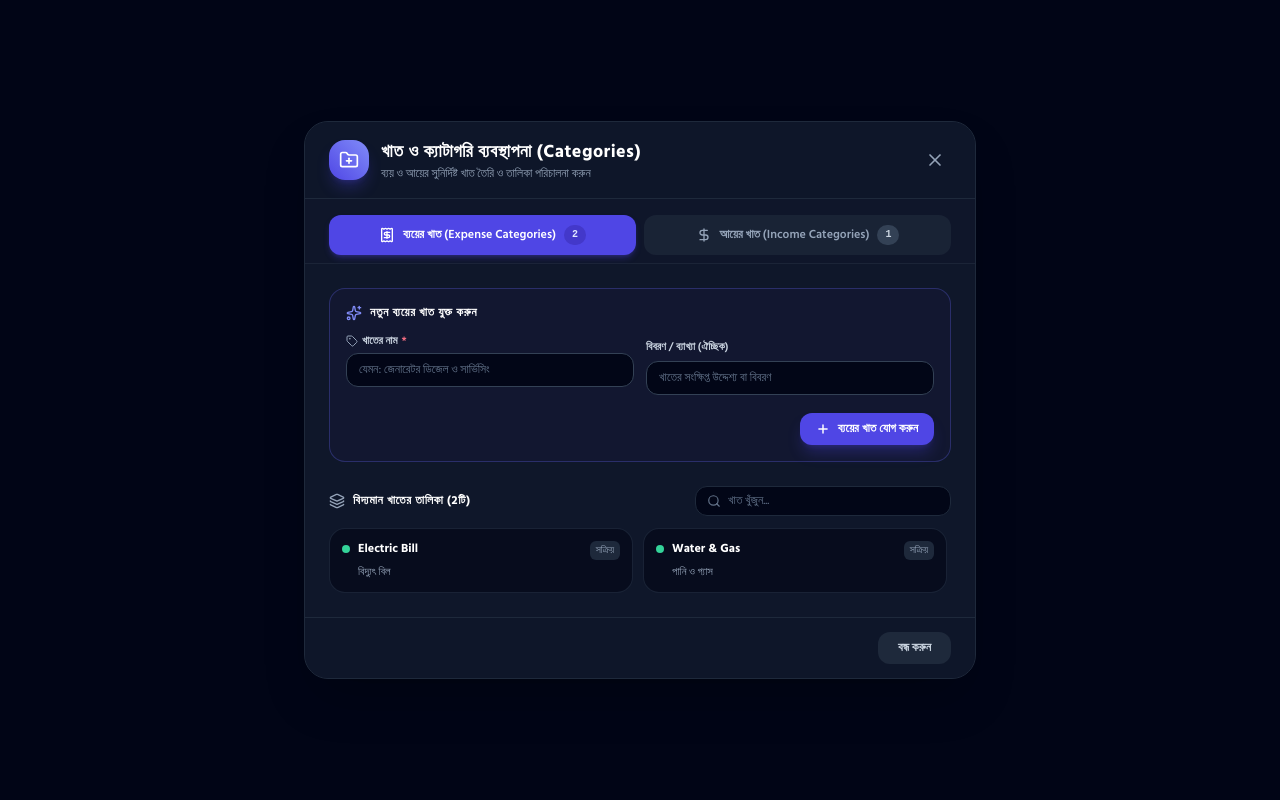
Scenario: ManageCategoriesModal Component › switches between Expense and Income tabs seamlessly
The width and height of the screenshot is (1280, 800).
expect the text "Electric Bill" is shown: met, box [358, 541, 418, 557]
# Click Income Categories tab
Click the text "আয়ের খাত (Income Categories)".
click(794, 235)  # box [720, 227, 869, 243]
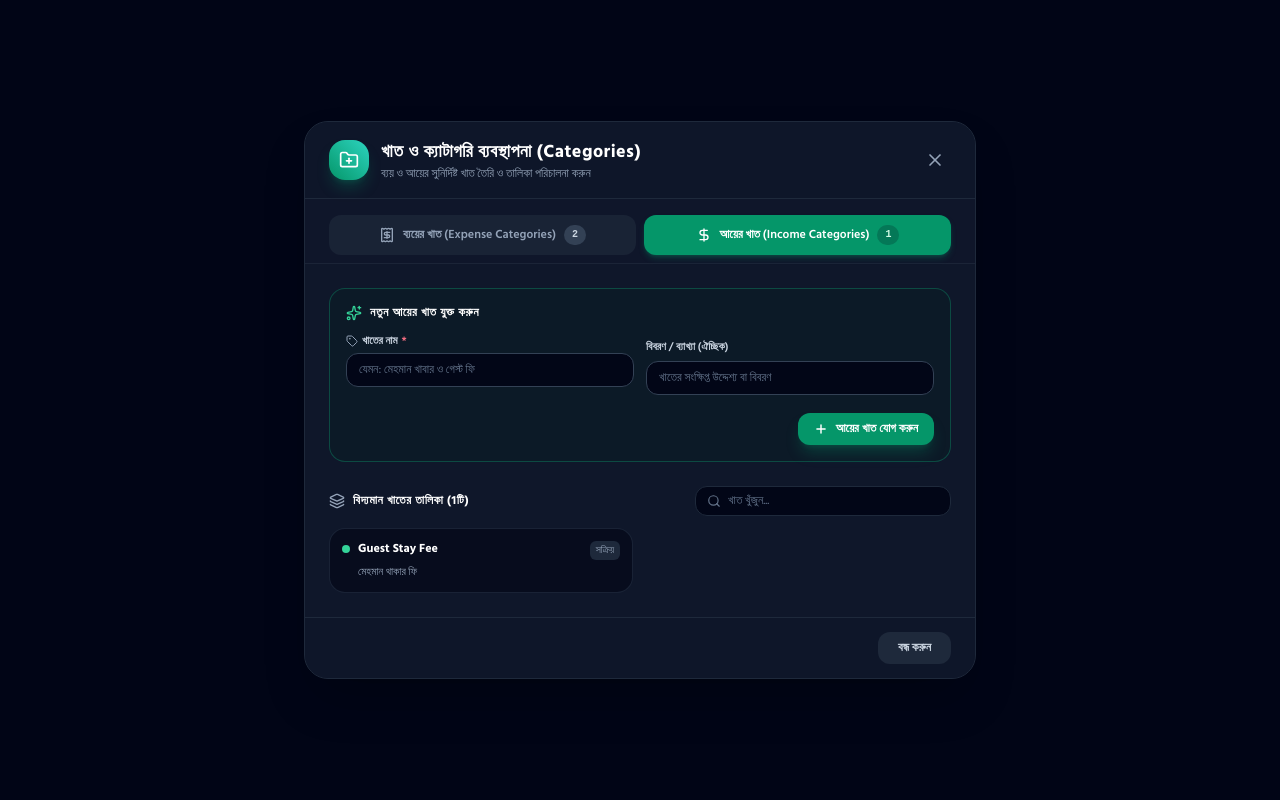
expect the text "Guest Stay Fee" is shown: met, box [358, 541, 438, 557]
